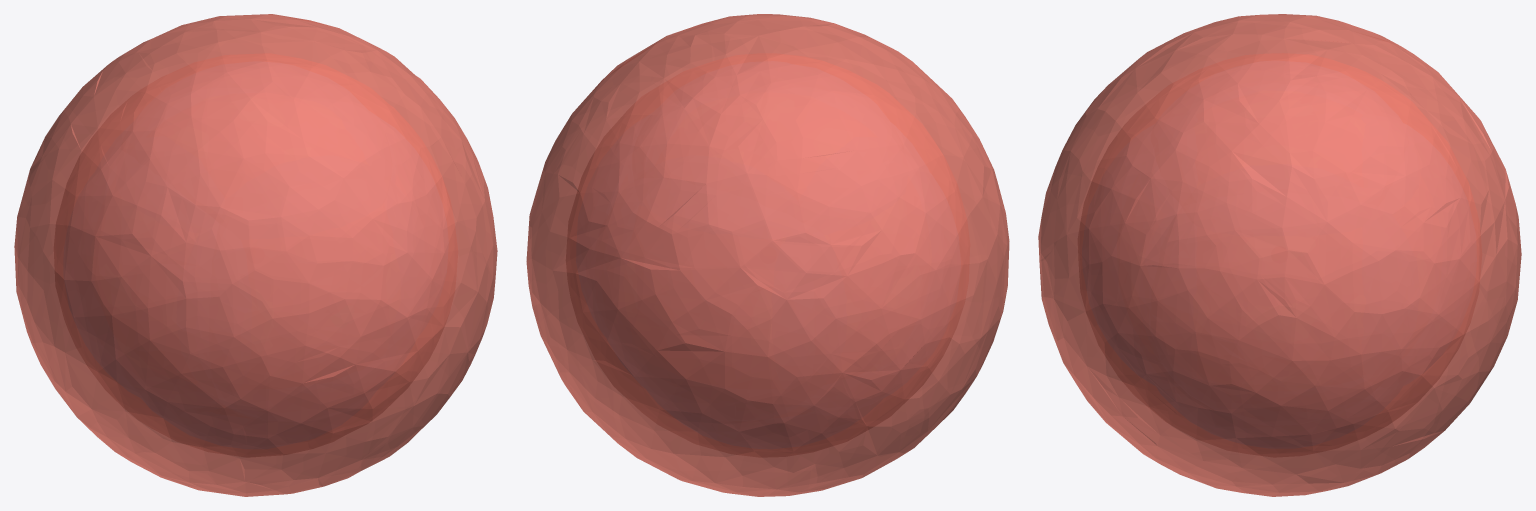
File: orbital.glb
3 renders of one model, left to right at view 1: azimuth 30°, elevation 25°; view 2: azimuth 150°, elevation 25°; view 3: azimuth 270°, elevation 25°, orthographic.
Visible parts, largest first — view 1: Pm_n6_s_ml0_node, Pm_n5_s_ml0_node; view 2: Pm_n6_s_ml0_node, Pm_n5_s_ml0_node; view 3: Pm_n6_s_ml0_node, Pm_n5_s_ml0_node.
Part boxes in pixels (box(x1,y1,x2,y2)): Pm_n6_s_ml0_node: box(14, 14, 497, 496); Pm_n5_s_ml0_node: box(54, 53, 457, 457); Pm_n6_s_ml0_node: box(526, 14, 1009, 496); Pm_n5_s_ml0_node: box(566, 53, 969, 457); Pm_n6_s_ml0_node: box(1038, 14, 1521, 496); Pm_n5_s_ml0_node: box(1078, 53, 1481, 457).
Bounding box in the file's own units: 3.06 × 3.06 × 3.06.
